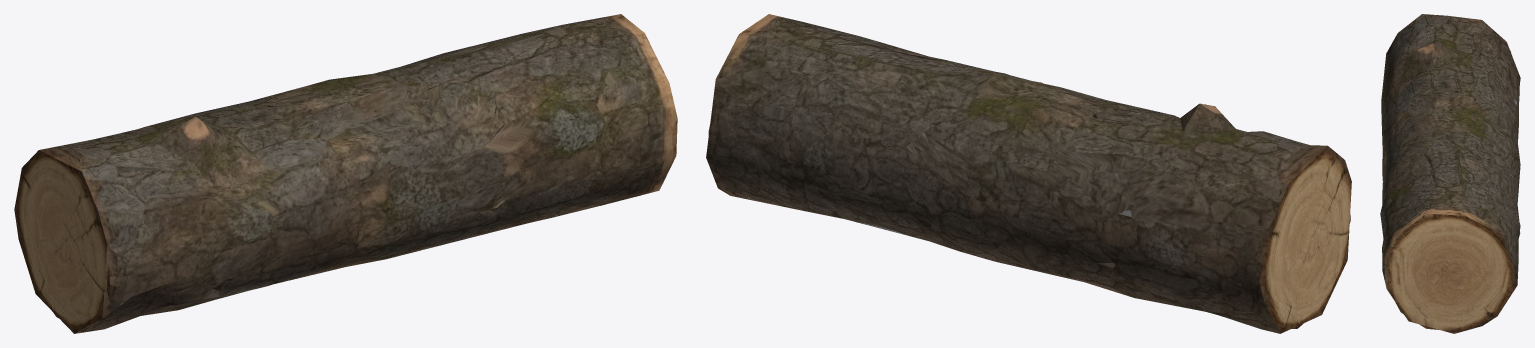
The picture shows the model from 3 angles, left to right: view 1: azimuth 30°, elevation 25°; view 2: azimuth 150°, elevation 25°; view 3: azimuth 270°, elevation 25°; orthographic projection. The views are drawn at different scales.
Visible parts, largest first — view 1: firewood-log.001; view 2: firewood-log.001; view 3: firewood-log.001.
Boxes of the visible parts, x1=… form: firewood-log.001: x1=14, y1=14, x2=677, y2=333; firewood-log.001: x1=706, y1=14, x2=1351, y2=333; firewood-log.001: x1=1380, y1=14, x2=1520, y2=333.
Bounding box in the file's own units: 1.2 × 0.3811 × 0.355.
Materials: 1 (1 with a texture image).
